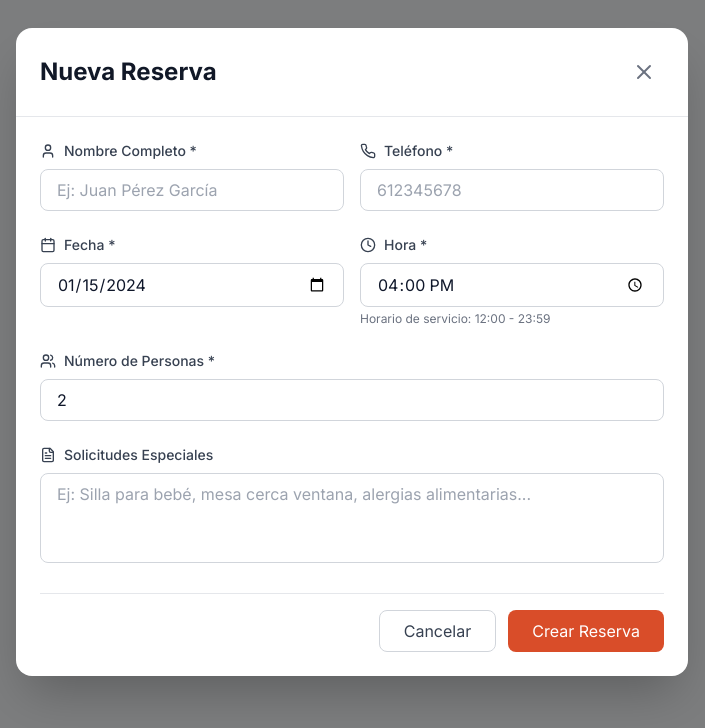
Test case: ReservaForm Component › Error Handling and UI Feedback › should display AlertCircle icon with error messages
Click the button "Crear Reserva": (586, 631) left=508, top=610, right=664, bottom=652
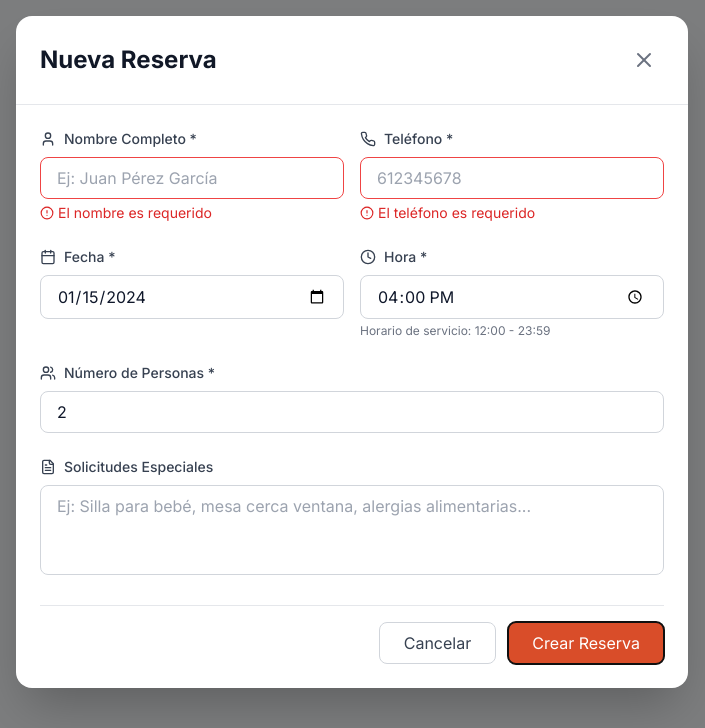
Now the text "El nombre es requerido" is shown, box left=58, top=203, right=212, bottom=223
Now the element showing "El nombre es requerido" is shown, box left=40, top=204, right=212, bottom=221
Now the element showing "El teléfono es requerido" is shown, box left=360, top=204, right=535, bottom=221
